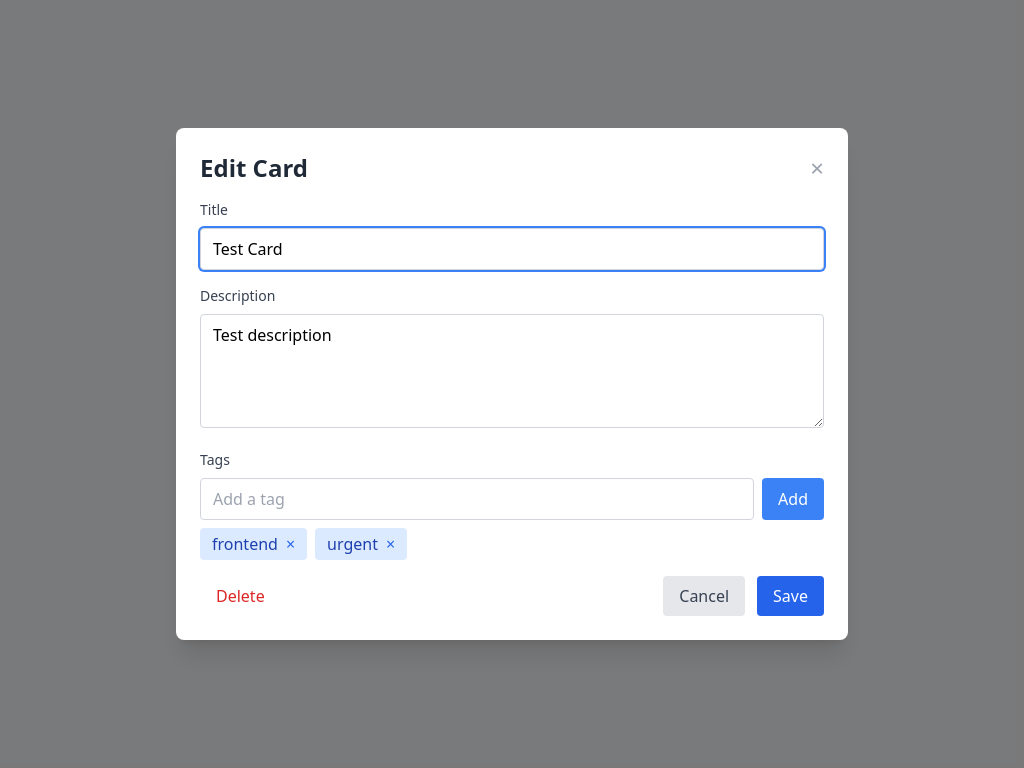
Test: CardDetailModal › should add a tag
In the field with placeholder "Add a tag": (477, 499) [200,478,754,520], type "newtag"
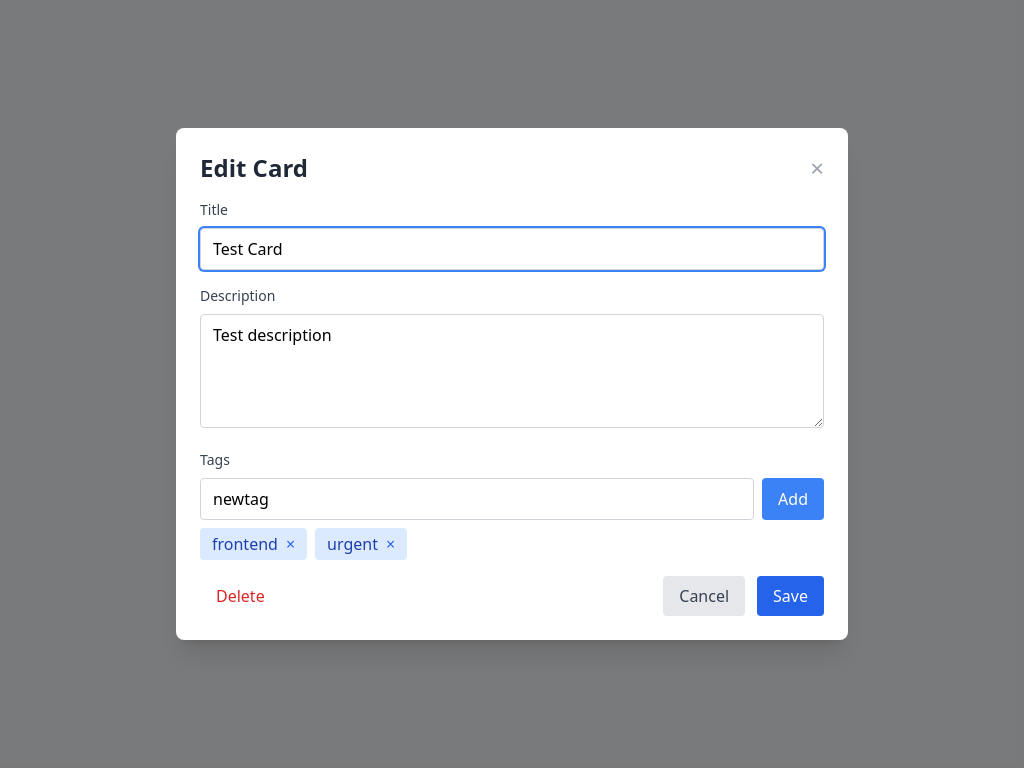
Press Enter in the 2nd field with placeholder "Add a tag", box [200,478,754,520]
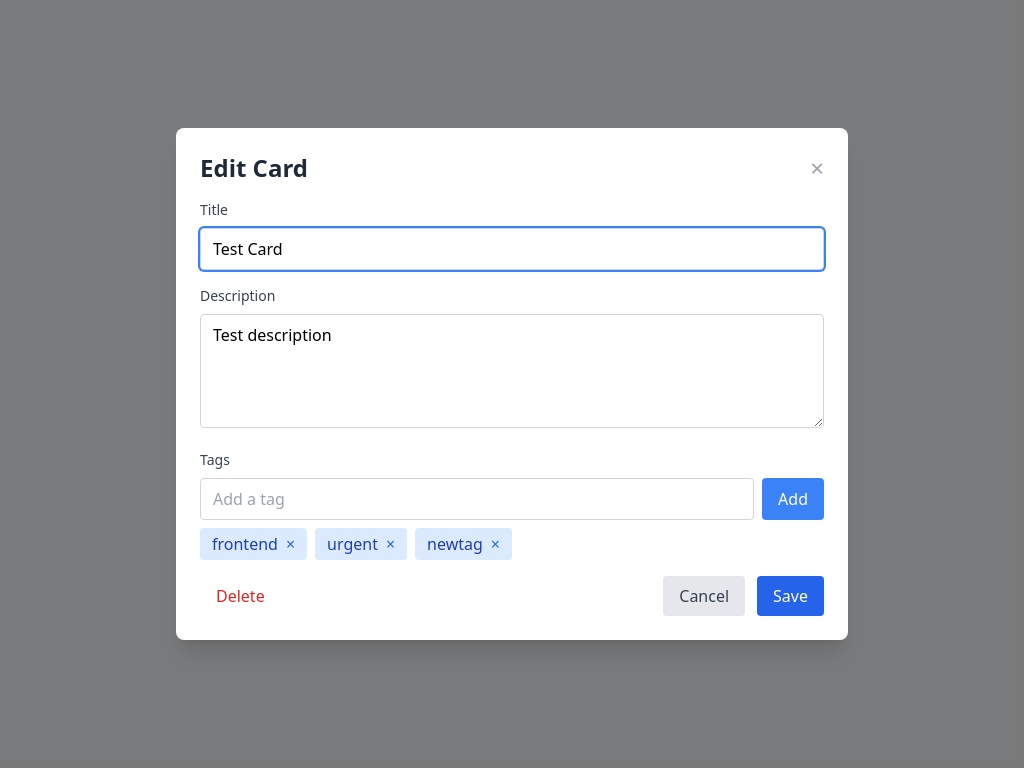
Check: the text "newtag" is shown, box [427,533,483,555]
